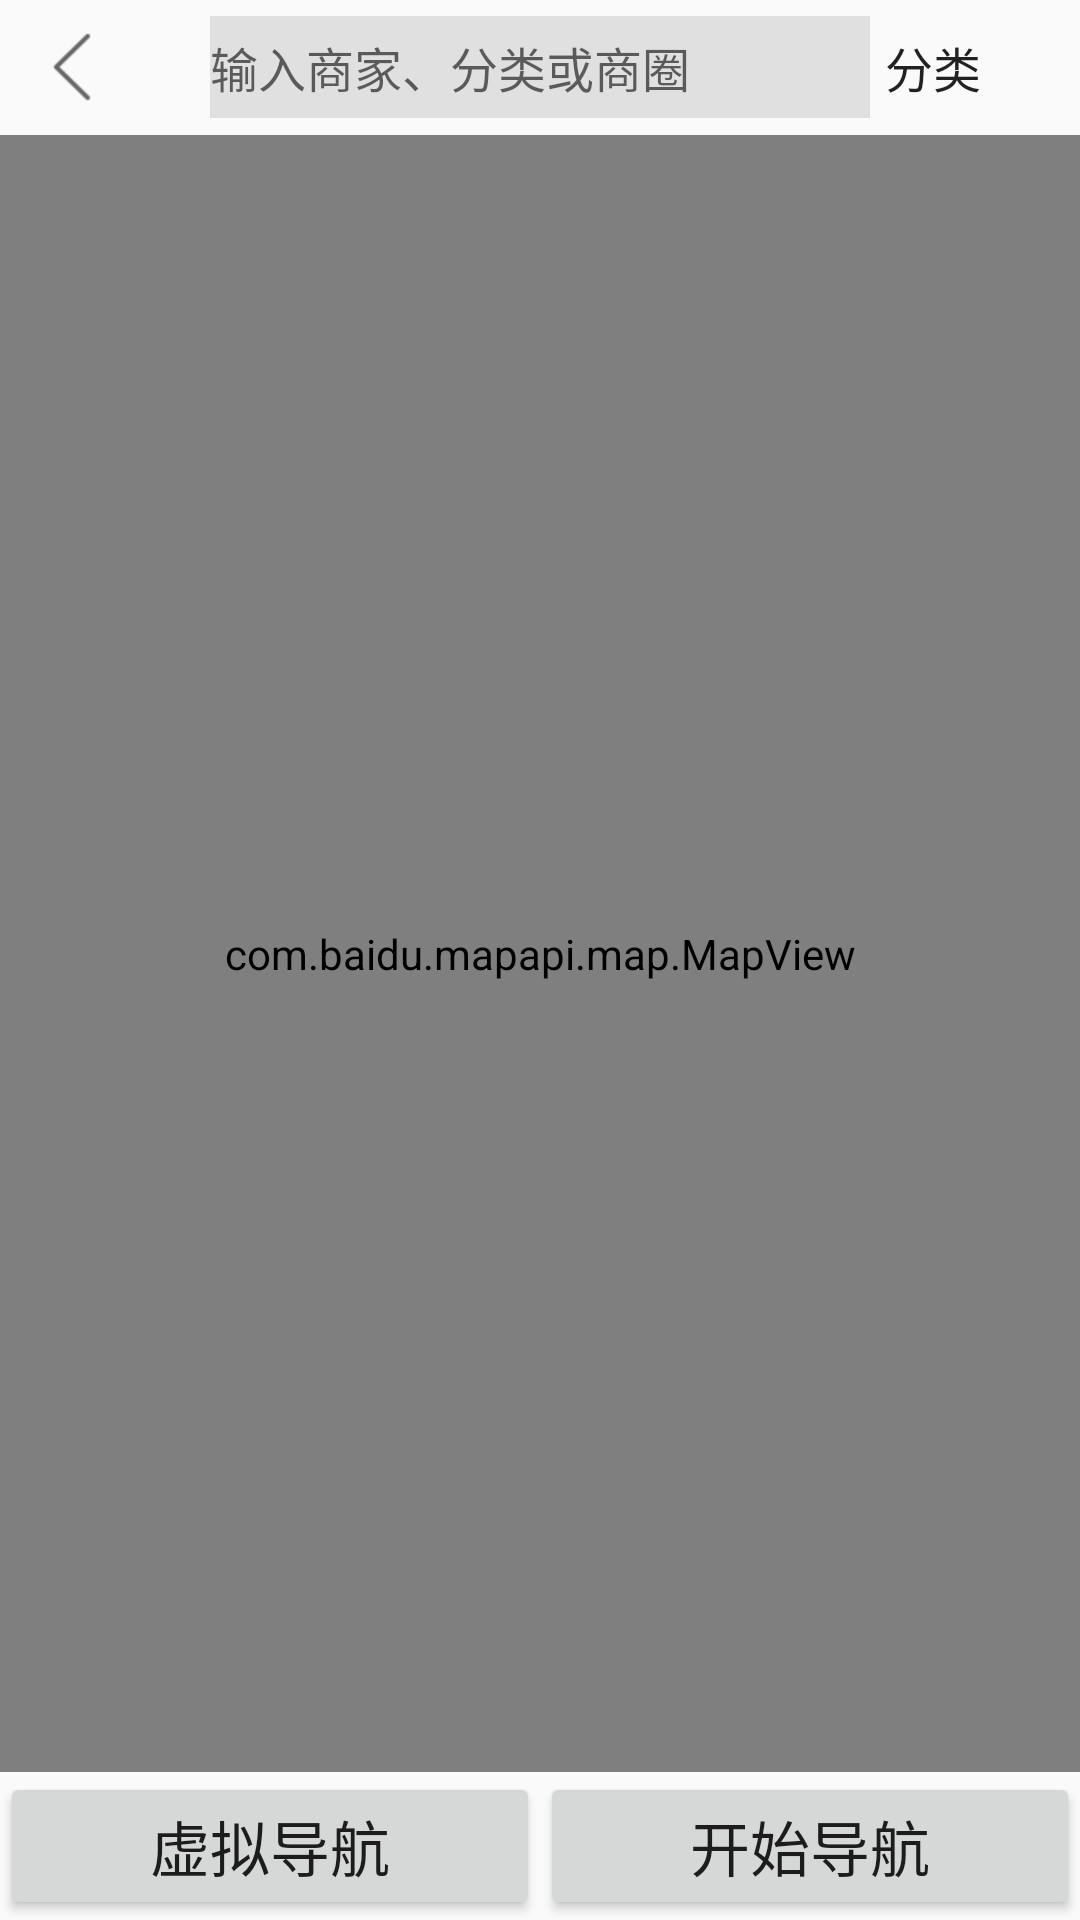

Screen size 1080×1920. Icon name, then its box in pixels as (x1, y1, x2, y2):
location back: (54, 34, 90, 100)
